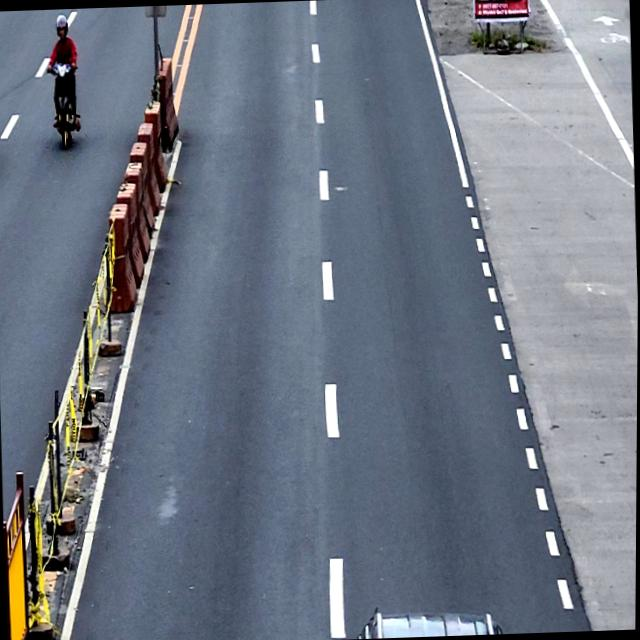Motorcycle: (46, 61, 82, 150)
